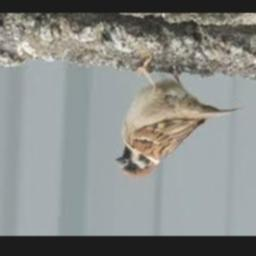Sparrow: (114, 58, 241, 178)
